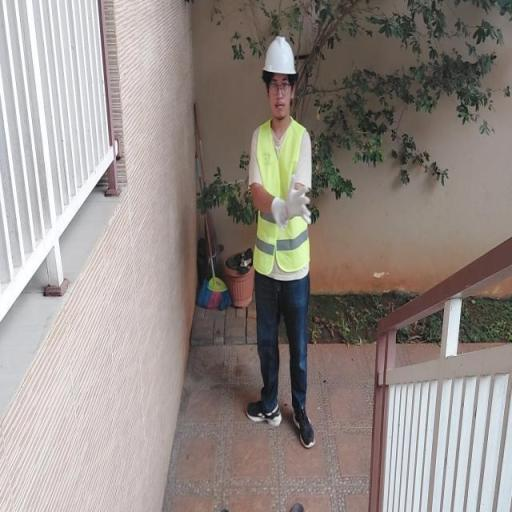Person: (233, 23, 336, 458)
boots: (288, 396, 319, 450), (243, 394, 283, 430)
gloves: (264, 191, 297, 227), (286, 184, 310, 222)
helmet: (255, 34, 302, 80)
vest: (250, 113, 313, 283)
